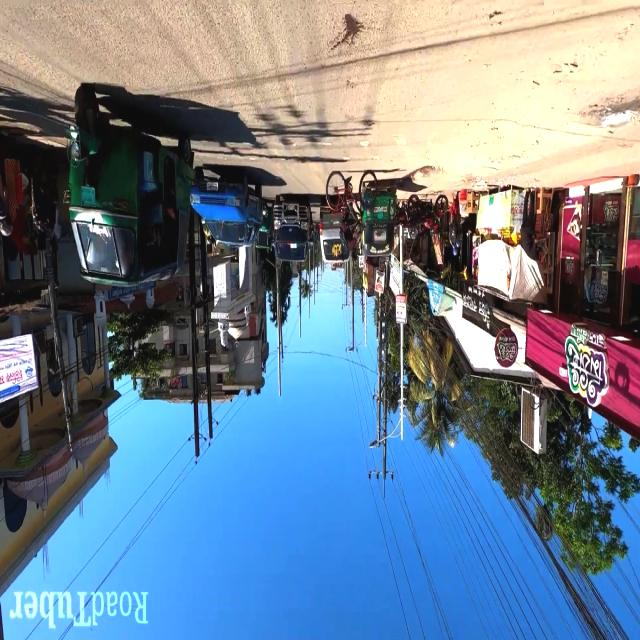black: (268, 193, 313, 266)
blue: (191, 173, 265, 248)
silver: (318, 196, 342, 263)
